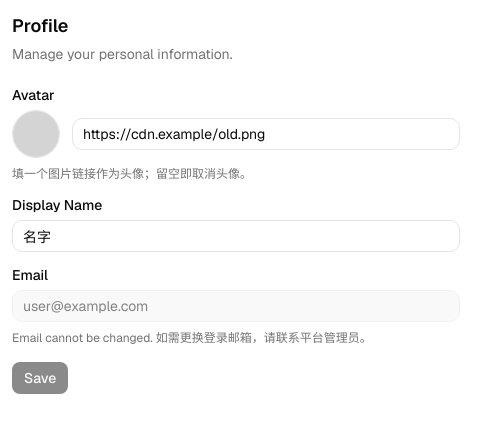
Test: profile section › previews a saved avatar and saves a changed one
The width and height of the screenshot is (480, 447).
Clear the field labelled "Avatar" at (266, 134), box [72,118,460,150]
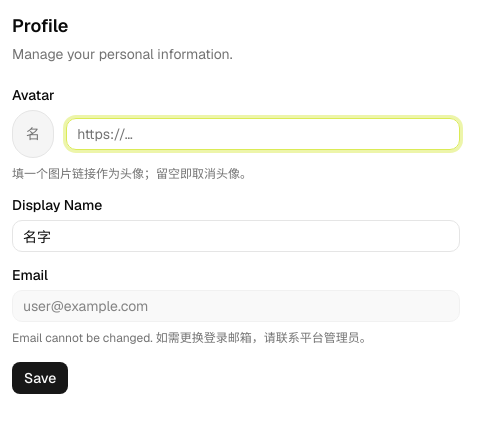
Type " https://cdn.example/new.png " into the field labelled "Avatar" at (263, 134), box [66,118,460,150]
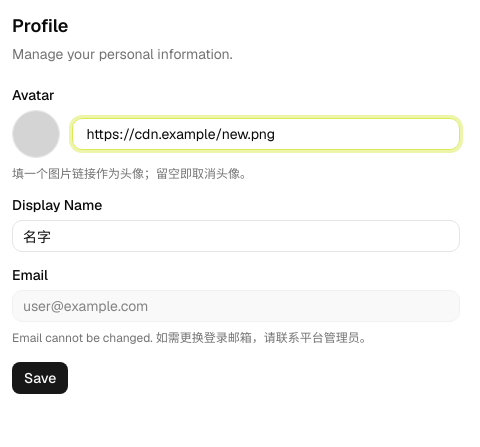
Click the button "Save" at (40, 378), box [12,362,68,394]
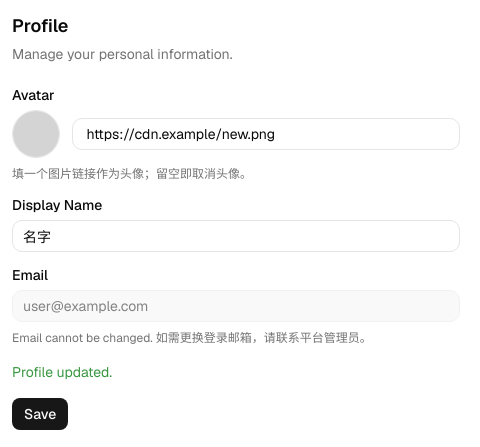
Now the text with test id "profile-feedback" shows "Profile updated", box [12,363,112,381]
